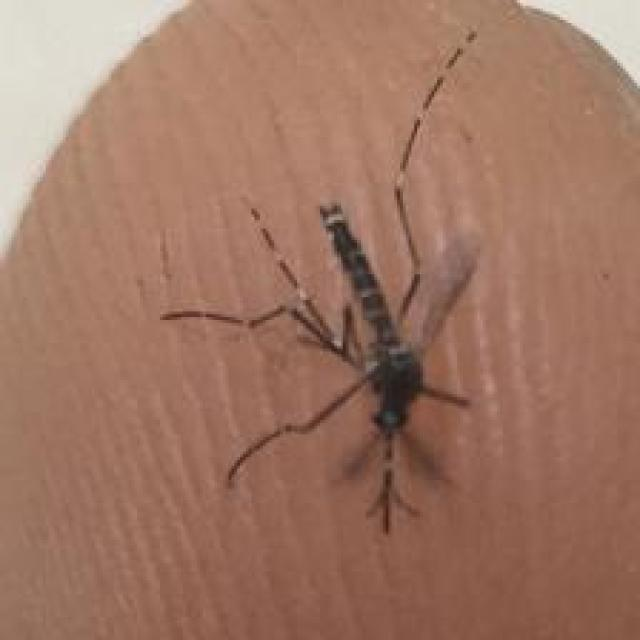Aedes albopictus: (160, 195, 483, 534)
